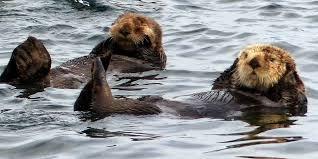otter: (97, 37, 297, 123), (15, 11, 171, 77)
